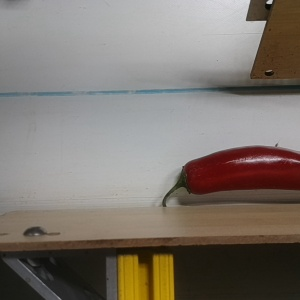Cut Point: (175, 158, 205, 198)
